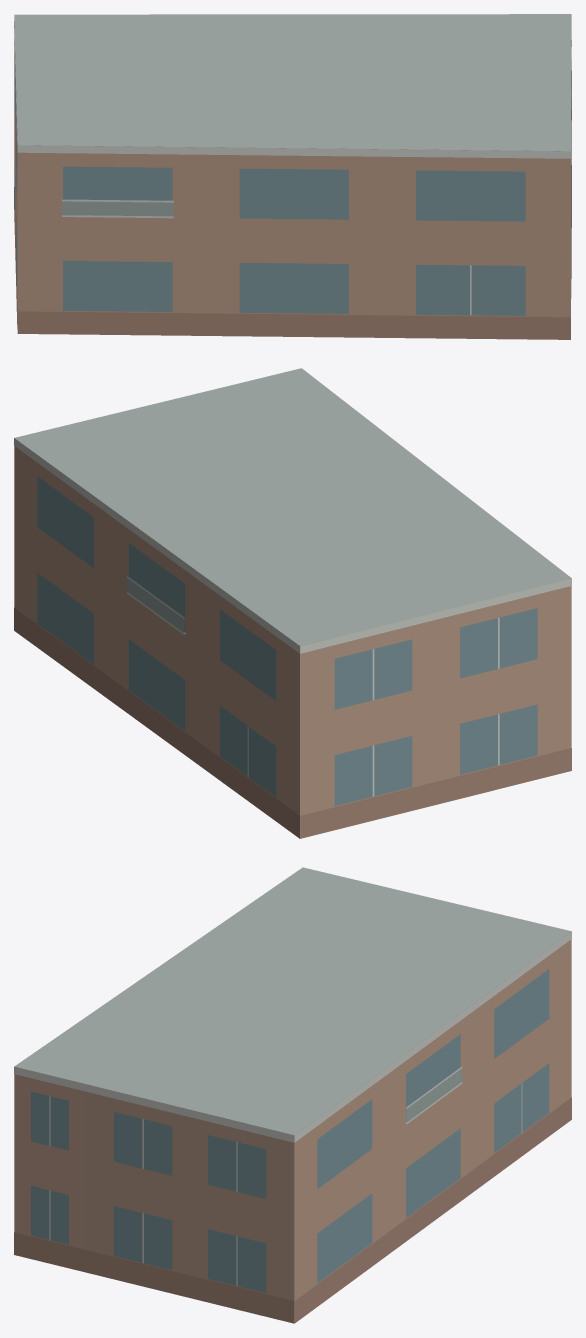
The model's file is survey-upis-33033329.glb.
The picture shows the model from 3 angles, top to bottom: view 1: azimuth 30°, elevation 25°; view 2: azimuth 150°, elevation 25°; view 3: azimuth 270°, elevation 25°; orthographic projection. The views are drawn at different scales.
Parts seen in each view (by area): view 1: survey-upis-33033329.tmp; view 2: survey-upis-33033329.tmp; view 3: survey-upis-33033329.tmp.
Boxes of the visible parts, x1,y1,x2,y2 form: survey-upis-33033329.tmp: (14, 14, 571, 339); survey-upis-33033329.tmp: (14, 368, 571, 838); survey-upis-33033329.tmp: (14, 867, 571, 1323).
Bounding box in the file's own units: 18.62 × 6.1 × 16.38.
